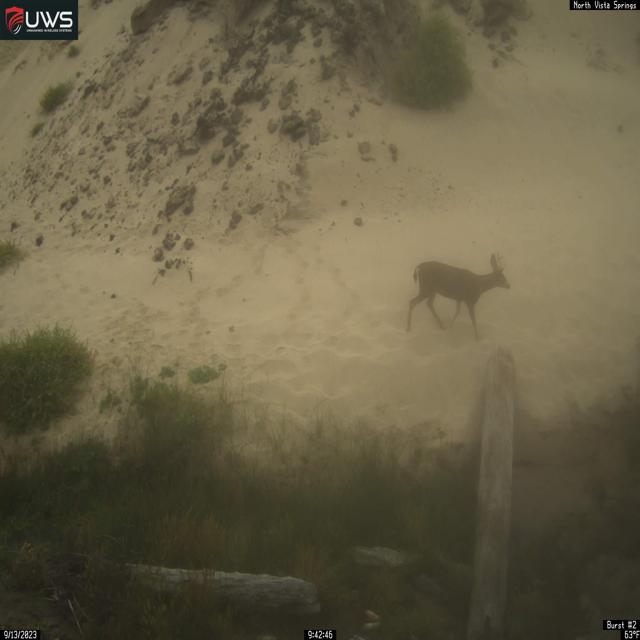deer: (405, 251, 511, 342)
